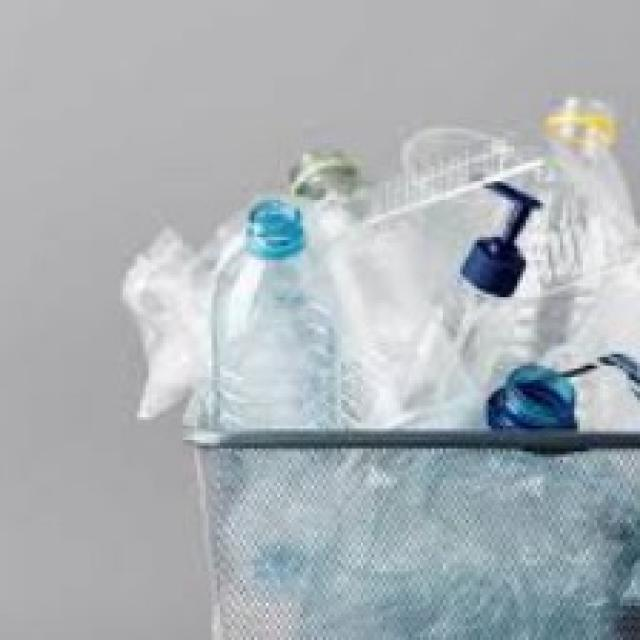heap: (114, 97, 640, 640)
plastic: (449, 168, 556, 298)
plastic_bottle: (187, 203, 360, 436), (410, 185, 552, 443)
